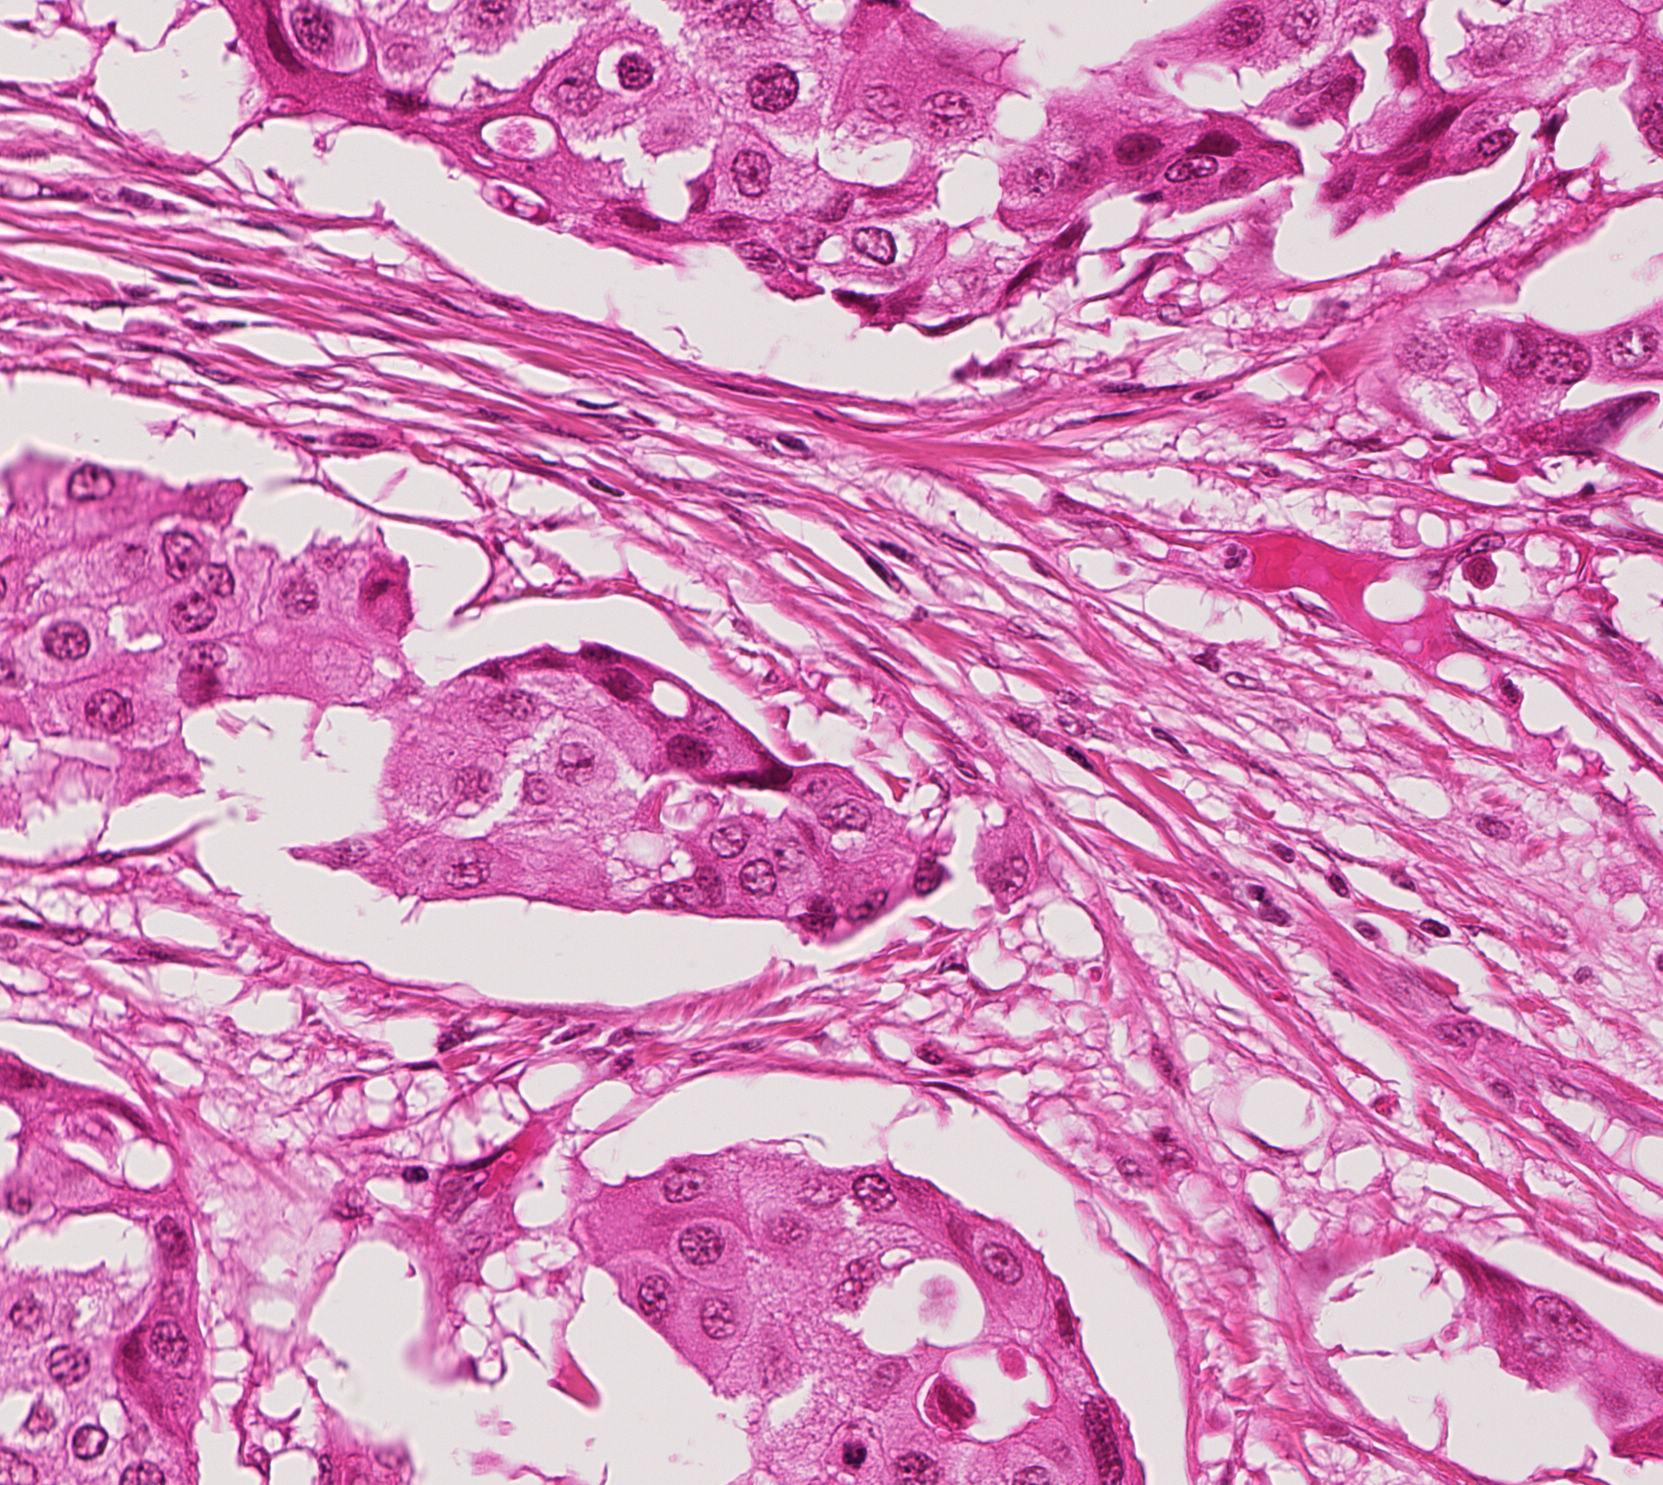mitosis: (816, 1423, 876, 1484)
